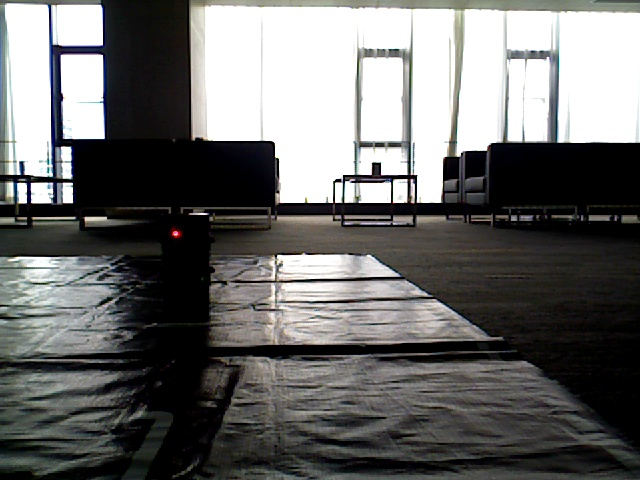red: (152, 215, 211, 318)
